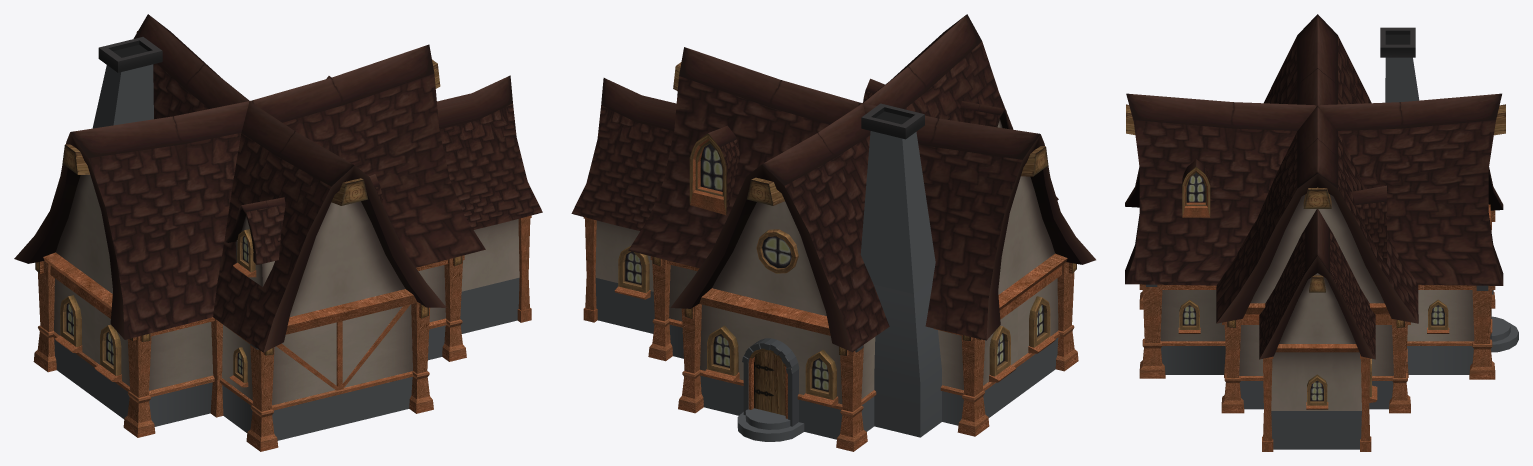
File: fanasty_mod_village_building12.fbx
3 views of the same model, side by side, from view 1: azimuth 30°, elevation 25°; view 2: azimuth 150°, elevation 25°; view 3: azimuth 270°, elevation 25° (orthographic). The views are drawn at different scales.
Visible parts, largest first — view 1: village_building_12; view 2: village_building_12; view 3: village_building_12.
Boxes of the visible parts, x1,y1,x2,y2 form: village_building_12: (14,14,542,451); village_building_12: (571,14,1095,451); village_building_12: (1125,14,1518,451).
Size of the model in its own units: 15.37 by 9.85 by 13.04.
